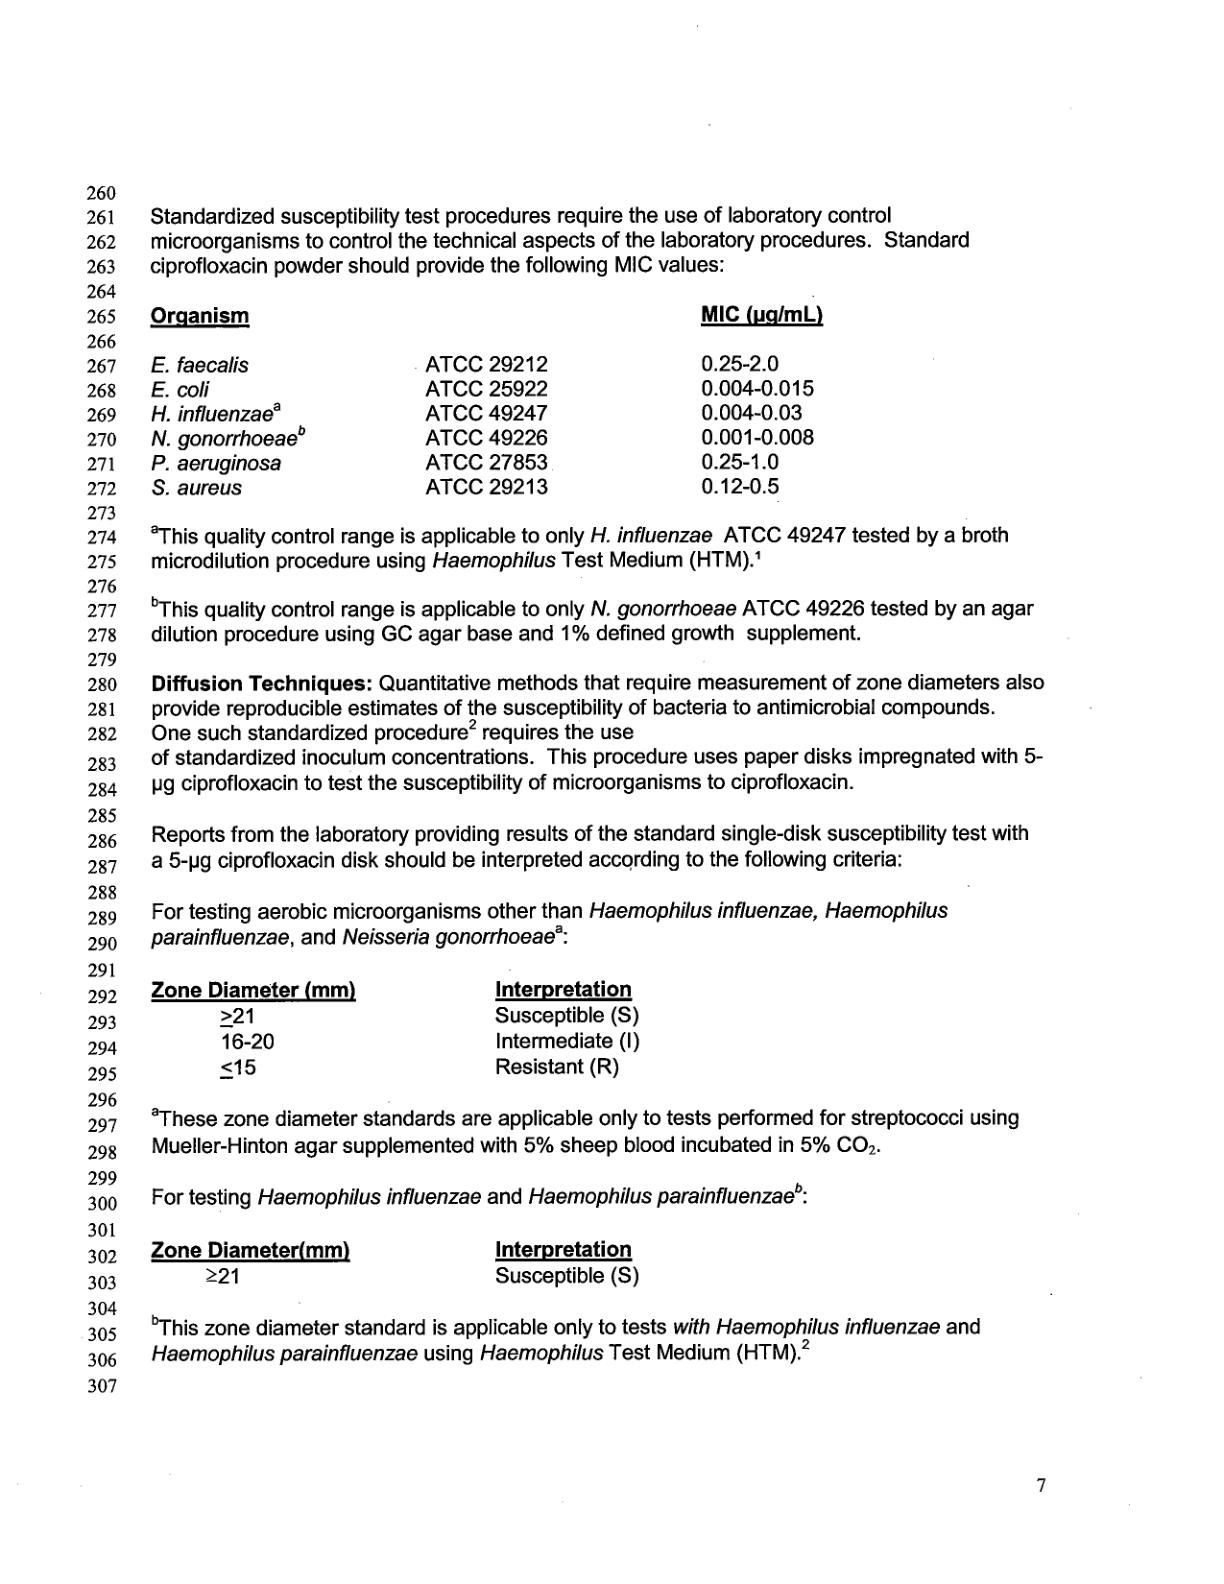nolines: (147, 303, 820, 498), (147, 977, 642, 1083), (147, 1237, 642, 1290)
